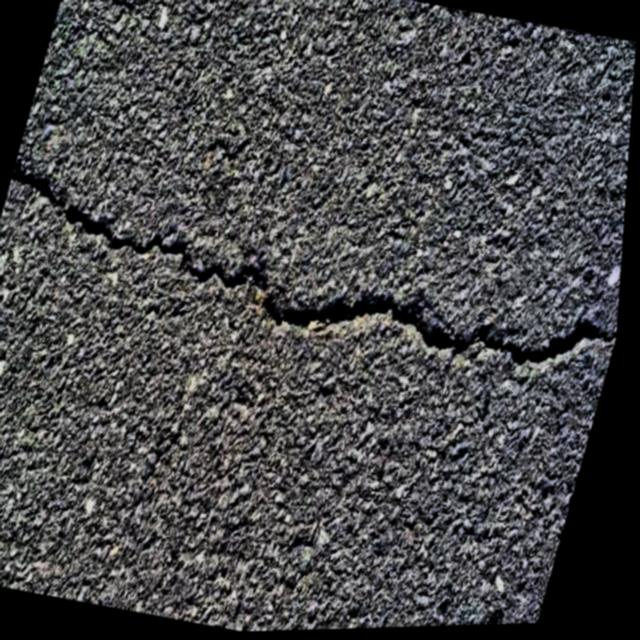Clogged Drains: (14, 157, 622, 364)
